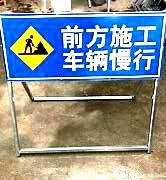sign: (1, 16, 162, 79)
